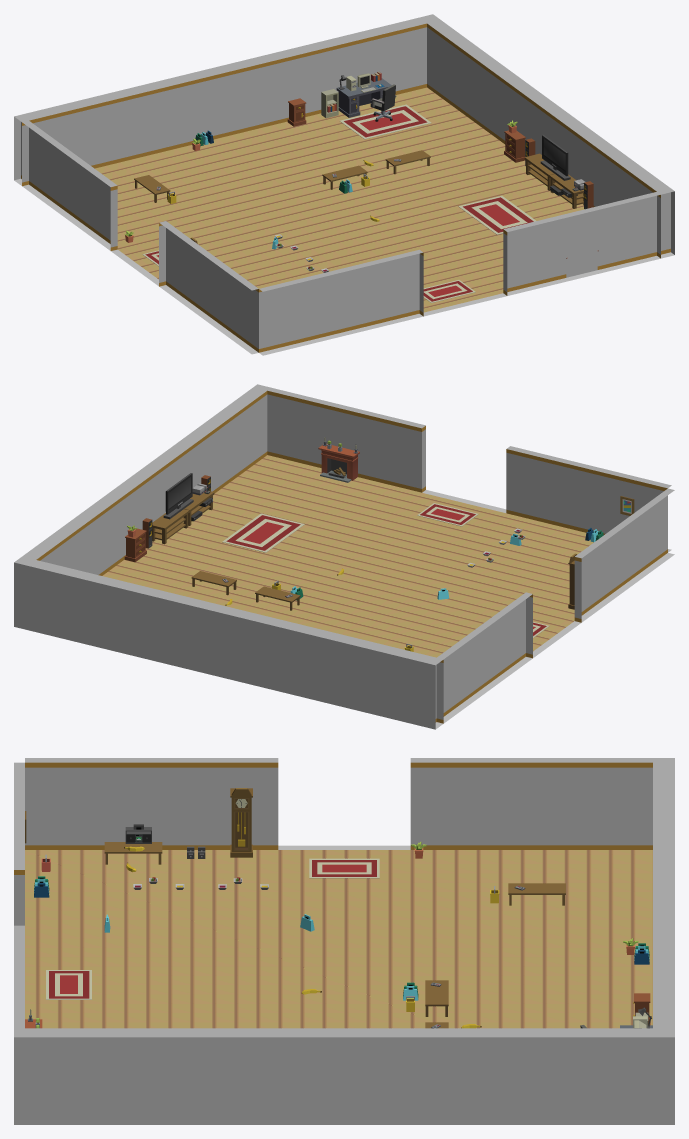
File: Lounge (1)_hub.FBX
3 renders of one model, top to bottom at view 1: azimuth 30°, elevation 25°; view 2: azimuth 150°, elevation 25°; view 3: azimuth 270°, elevation 25°, orthographic. The views are drawn at different scales.
Parts seen in each view (by area): view 1: Floor, Room - Inner (×2), InnerWall (1), InnerWall, Room - Lounge-detach (×2), InnerWall (2), InnerWall (3), Prop_Rug_01, Prop_Rug_01 (1), Prop_Desk_01, Prop_Tv_06, Cube (+4 smaller); view 2: Floor, Room - Lounge-detach (×2), Room - Inner, InnerWall, InnerWall (1), InnerWall (2), InnerWall (3), Prop_Rug_01 (1), Prop_Fireplace_01, Base Room, Prop_Tv_06, Prop_Rug_04 (1) (+2 smaller); view 3: Floor, Room - Lounge-detach (×2), InnerWall (3), InnerWall (2), Base Room, InnerWall, InnerWall (1), Prop_Big_Clock, Prop_Rug_04, Prop_Rug_04 (1), Prop_Small_Table_03, Prop_Small_Table_03 (2) (+1 smaller).
Boxes of the visible parts, x1,y1,x2,y2 form: Floor: [14, 87, 674, 355]; Room - Inner (×2): [22, 23, 660, 258]; InnerWall (1): [259, 249, 423, 352]; InnerWall: [503, 191, 674, 295]; Room - Lounge-detach (×2): [21, 17, 674, 253]; InnerWall (2): [159, 221, 258, 352]; InnerWall (3): [14, 115, 117, 250]; Prop_Rug_01: [340, 104, 431, 139]; Prop_Rug_01 (1): [458, 195, 535, 234]; Prop_Desk_01: [336, 78, 391, 117]; Prop_Tv_06: [540, 134, 570, 180]; Cube: [566, 244, 597, 277]; Floor: [102, 455, 674, 729]; Room - Lounge-detach (×2): [22, 384, 443, 729]; Room - Inner: [36, 391, 267, 575]; InnerWall: [267, 387, 425, 492]; InnerWall (1): [506, 446, 671, 534]; InnerWall (2): [574, 488, 674, 622]; InnerWall (3): [429, 592, 532, 722]; Prop_Rug_01 (1): [222, 513, 304, 552]; Prop_Fireplace_01: [318, 444, 359, 482]; Base Room: [14, 556, 35, 629]; Prop_Tv_06: [163, 473, 193, 519]; Prop_Rug_04 (1): [417, 503, 478, 526]; Floor: [25, 845, 652, 1028]; Room - Lounge-detach (×2): [14, 758, 674, 1124]; InnerWall (3): [410, 758, 674, 849]; InnerWall (2): [25, 758, 278, 849]; Base Room: [653, 1028, 674, 1124]; InnerWall: [14, 925, 24, 1124]; InnerWall (1): [14, 762, 24, 925]; Prop_Big_Clock: [230, 788, 252, 857]; Prop_Rug_04: [309, 858, 379, 878]; Prop_Rug_04 (1): [46, 970, 91, 999]; Prop_Small_Table_03: [508, 883, 565, 905]; Prop_Small_Table_03 (2): [425, 980, 448, 1016].
Size of the model in its own units: 30000 by 4375 by 30000.
